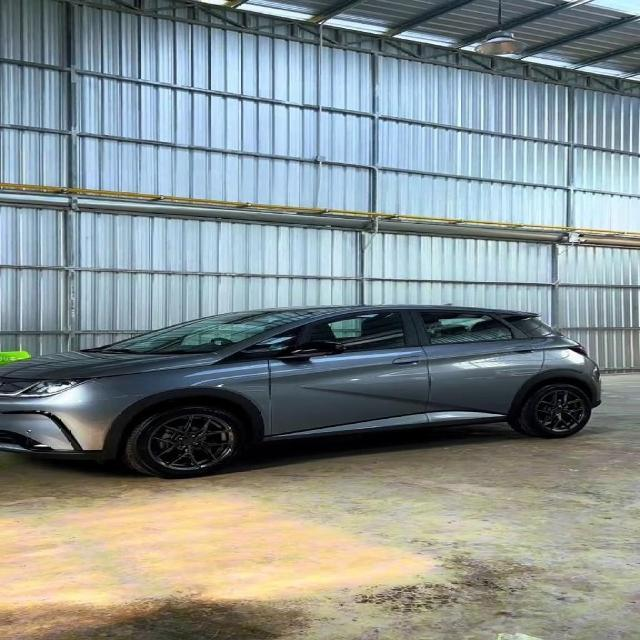Hatchback: (0, 304, 600, 478)
